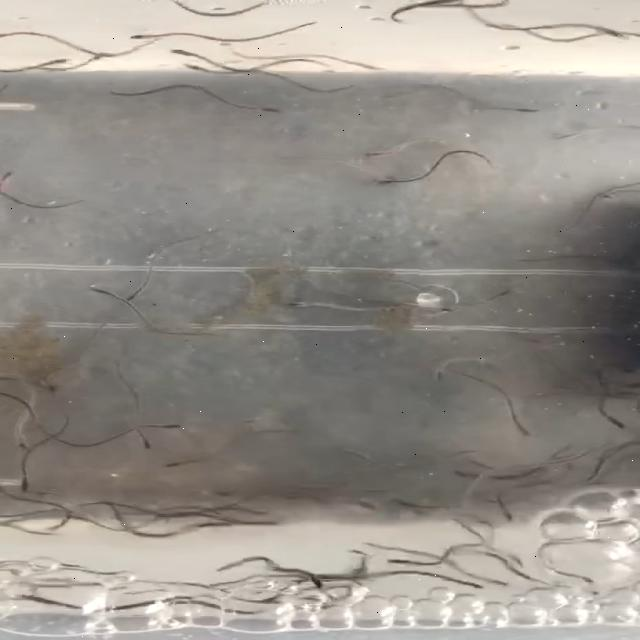active_glass_eel: (401, 289, 458, 324), (71, 278, 145, 300), (420, 359, 476, 387), (0, 422, 55, 449), (554, 564, 614, 588), (352, 167, 407, 193), (506, 93, 555, 122), (476, 282, 527, 308), (478, 502, 528, 528), (110, 282, 168, 304), (165, 40, 224, 61), (347, 136, 392, 163), (119, 424, 167, 448), (252, 512, 296, 538), (278, 296, 329, 318), (243, 103, 299, 122), (586, 20, 634, 42), (86, 44, 136, 65), (16, 56, 74, 74), (192, 518, 244, 538), (474, 570, 520, 592), (590, 408, 628, 434), (444, 462, 486, 484), (482, 20, 538, 36), (150, 456, 199, 474), (114, 26, 164, 42), (180, 62, 230, 78), (496, 420, 540, 438), (6, 478, 54, 494), (328, 569, 368, 588), (10, 589, 42, 609), (148, 418, 186, 434), (374, 554, 412, 570), (451, 579, 488, 595), (0, 167, 32, 183), (242, 506, 282, 518), (152, 0, 198, 8), (40, 522, 60, 536)
